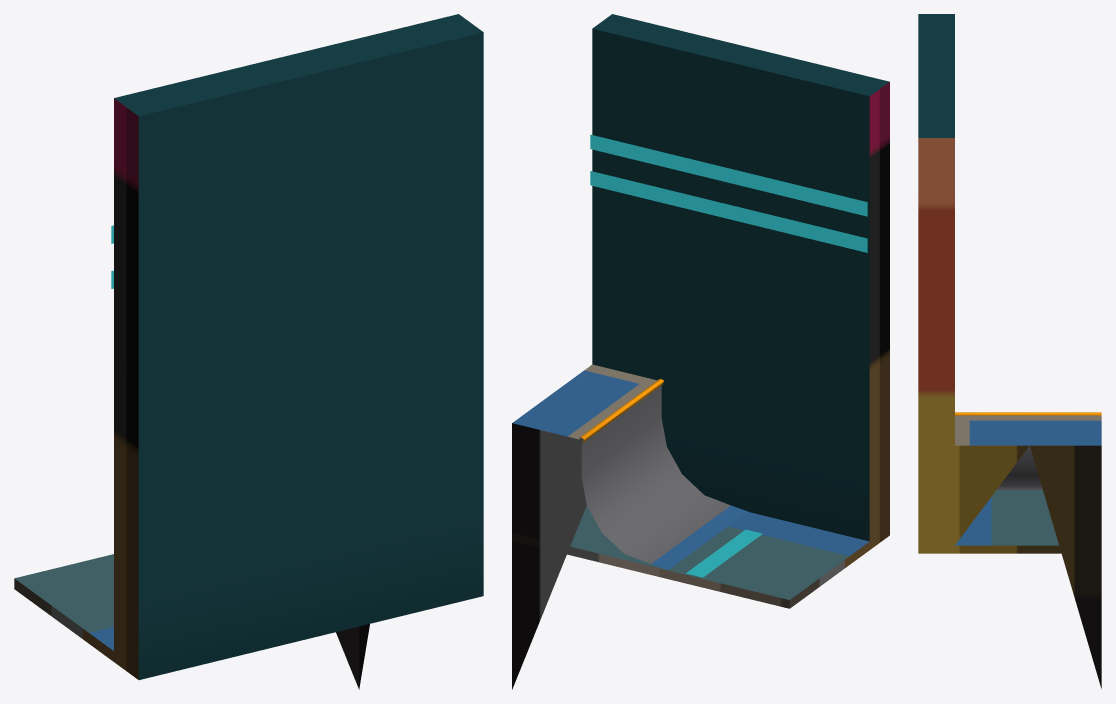
Rendered from tile_8_0_0.gltf.
3 views of the same model, side by side, from view 1: azimuth 30°, elevation 25°; view 2: azimuth 150°, elevation 25°; view 3: azimuth 270°, elevation 25° (orthographic). The views are drawn at different scales.
Parts seen in each view (by area): view 1: wall.south.008, ground, pipe.main; view 2: wall.south.008, pipe.main, ground, neons.003, decal.main, pipe.main.rim; view 3: wall.south.008, pipe.main, ground, pipe.main.rim.
Part boxes in pixels (x1,y1,x2,y2): wall.south.008: (114, 14, 483, 679); ground: (14, 554, 113, 661); pipe.main: (336, 624, 369, 689); wall.south.008: (592, 14, 889, 549); pipe.main: (512, 364, 747, 689); ground: (512, 505, 869, 608); neons.003: (590, 134, 867, 252); decal.main: (686, 529, 762, 577); pipe.main.rim: (579, 378, 663, 442); wall.south.008: (918, 14, 954, 553); pipe.main: (955, 415, 1101, 688); ground: (955, 490, 1061, 553); pipe.main.rim: (955, 412, 1101, 415).
Size of what is drawn, in the model's own units: 8 by 16.6 by 5.
Materials: 2 (2 with a texture image).
